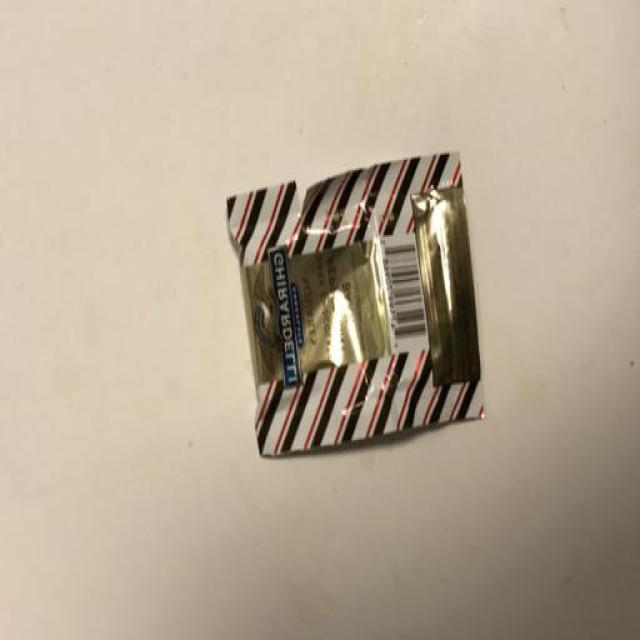Random Trash: (228, 152, 481, 457)
